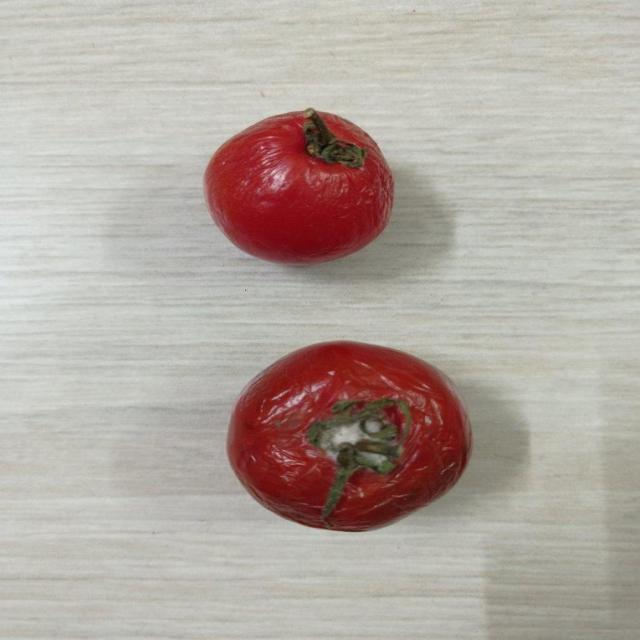Rotten: (226, 339, 472, 535), (205, 109, 394, 266)
